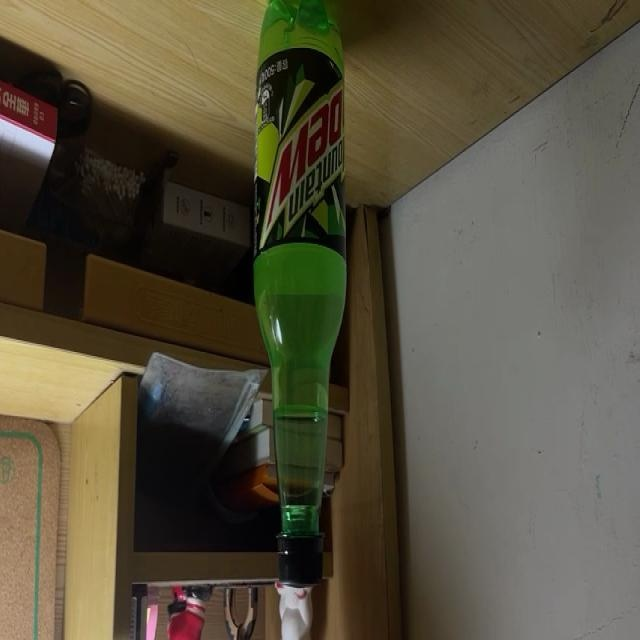Mountain-Dew: (254, 0, 348, 588)
